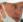mask_weared_incorrect: (2, 2, 23, 22)
